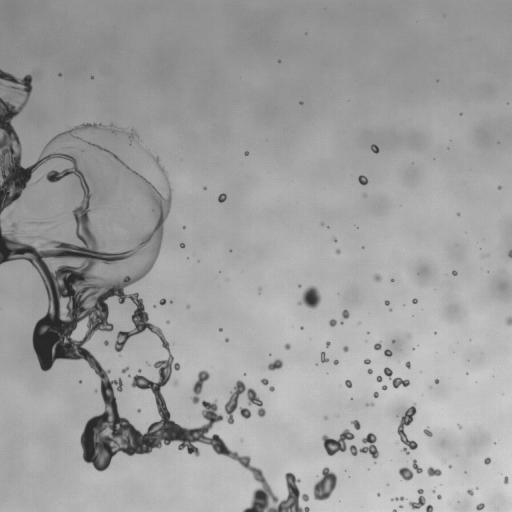droplet: (224, 380, 265, 424), (313, 467, 337, 500), (298, 286, 321, 309), (398, 459, 422, 481), (409, 489, 433, 511), (267, 359, 282, 370), (427, 467, 441, 476), (123, 197, 131, 211), (108, 207, 116, 220), (358, 175, 367, 185), (320, 351, 328, 362), (351, 420, 360, 429), (371, 144, 379, 153), (218, 193, 226, 202), (111, 238, 120, 246), (476, 502, 484, 511), (342, 309, 349, 319), (384, 349, 392, 357), (424, 428, 432, 436), (329, 319, 337, 326), (374, 342, 381, 350), (345, 379, 352, 387), (374, 274, 381, 281), (159, 298, 166, 305), (261, 378, 268, 385), (121, 367, 128, 373), (484, 457, 490, 464), (506, 317, 511, 325), (364, 358, 370, 364), (376, 376, 382, 382), (467, 489, 473, 495), (405, 361, 410, 368), (504, 476, 508, 484), (285, 343, 290, 349), (343, 346, 348, 352), (412, 298, 417, 303), (269, 386, 274, 391), (373, 392, 378, 397), (326, 341, 330, 347), (381, 385, 387, 389), (452, 271, 457, 275), (385, 300, 389, 305), (104, 340, 108, 345), (333, 360, 338, 364), (367, 369, 372, 373), (434, 379, 439, 383), (437, 494, 441, 499), (35, 222, 41, 225), (244, 151, 248, 155), (180, 243, 184, 247), (336, 249, 340, 253), (173, 381, 177, 385), (498, 186, 501, 189), (333, 238, 336, 241), (225, 338, 228, 341), (366, 403, 369, 406), (458, 425, 461, 428), (399, 505, 402, 508), (392, 509, 396, 511), (300, 101, 302, 104), (203, 187, 206, 189), (40, 236, 43, 238), (485, 254, 488, 256), (219, 328, 221, 331), (79, 380, 81, 383), (137, 409, 140, 411), (324, 417, 327, 419), (448, 465, 451, 467), (432, 490, 435, 492), (111, 190, 113, 192), (102, 206, 104, 208), (58, 213, 60, 215), (104, 212, 106, 214), (457, 213, 459, 215), (391, 279, 393, 281), (187, 305, 189, 307), (408, 334, 410, 336), (392, 340, 394, 342), (138, 369, 140, 371), (371, 403, 373, 405), (443, 461, 445, 463)
ligament: (0, 69, 309, 511), (322, 429, 378, 458), (397, 405, 417, 454), (384, 367, 409, 388), (99, 218, 106, 232), (391, 496, 405, 500), (508, 249, 511, 258), (29, 236, 35, 238)
